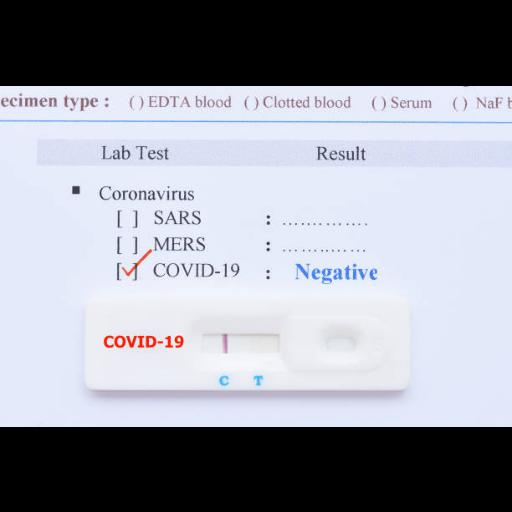Neg: (88, 293, 408, 391)
